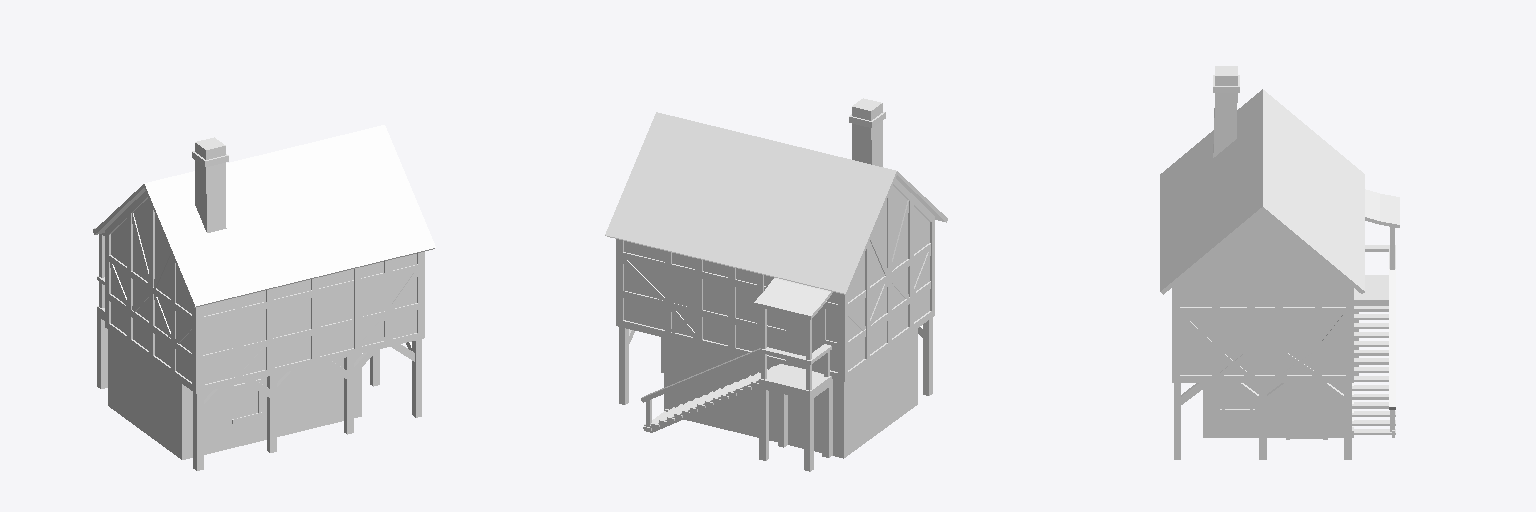
The model's file is medieval.obj.
The picture shows the model from 3 angles: view 1: azimuth 30°, elevation 25°; view 2: azimuth 150°, elevation 25°; view 3: azimuth 270°, elevation 25°; orthographic projection.
Visible parts, largest first — view 1: Cube.014_Cube.674; view 2: Cube.014_Cube.674; view 3: Cube.014_Cube.674.
Boxes of the visible parts, x1,y1,x2,y2 form: Cube.014_Cube.674: [93, 125, 435, 470]; Cube.014_Cube.674: [605, 98, 947, 471]; Cube.014_Cube.674: [1160, 66, 1399, 459].
Size of the model in its own units: 9.37 by 11.12 by 8.08.